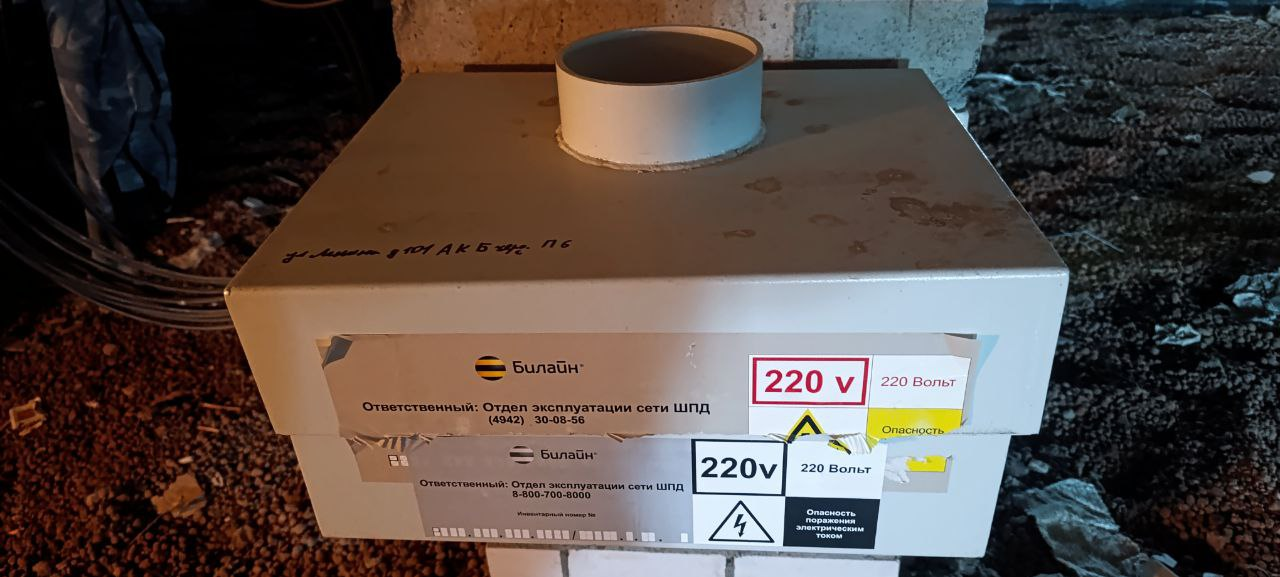shta-ps: (213, 17, 1080, 556)
